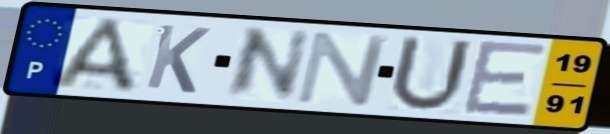A: (45, 15, 143, 96)
E: (458, 38, 551, 119)
K: (141, 21, 214, 96)
N: (292, 29, 394, 107), (220, 26, 316, 101)
U: (385, 32, 477, 115)
